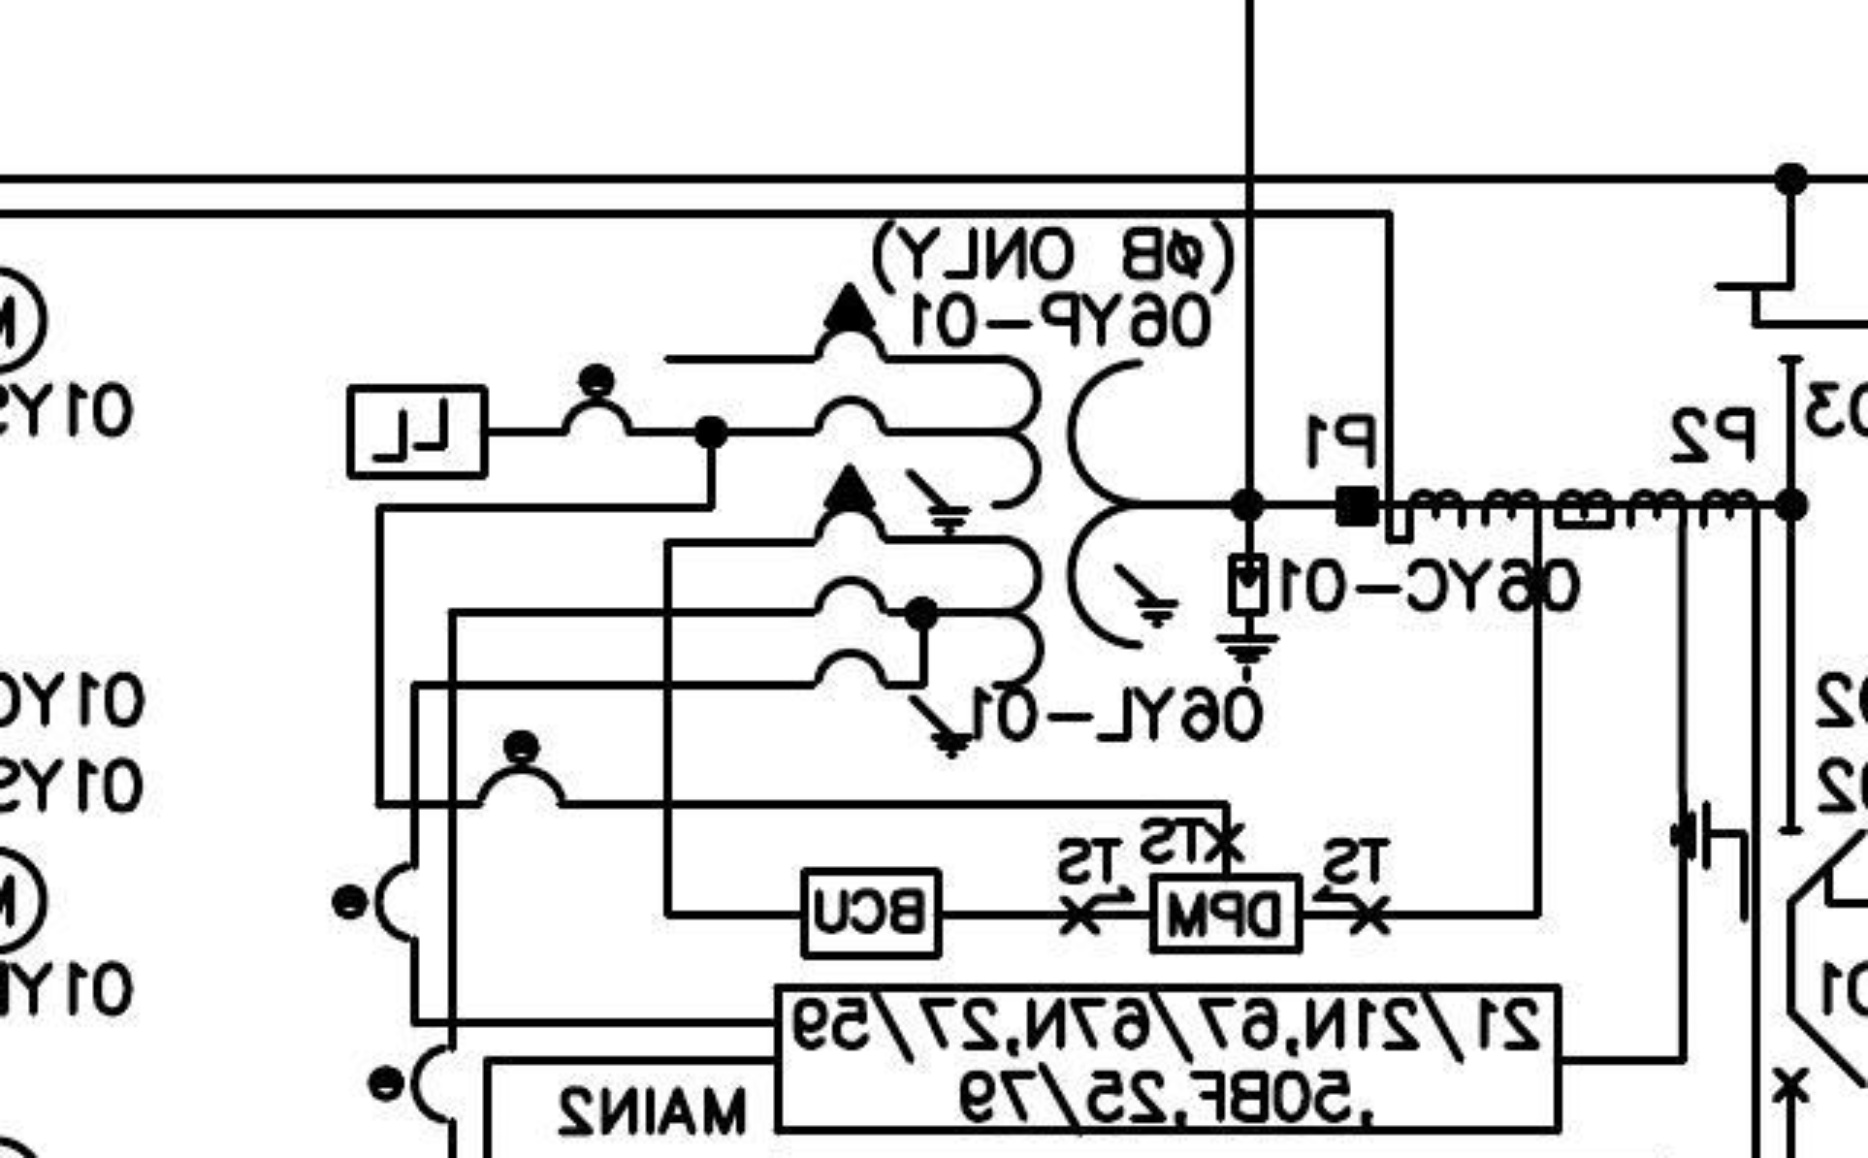115_la: (1213, 552, 1282, 686)
115_vt_1p: (809, 280, 1184, 762)
BCU: (798, 866, 945, 962)
DPM: (1149, 871, 1305, 957)
LL: (344, 383, 490, 482)
